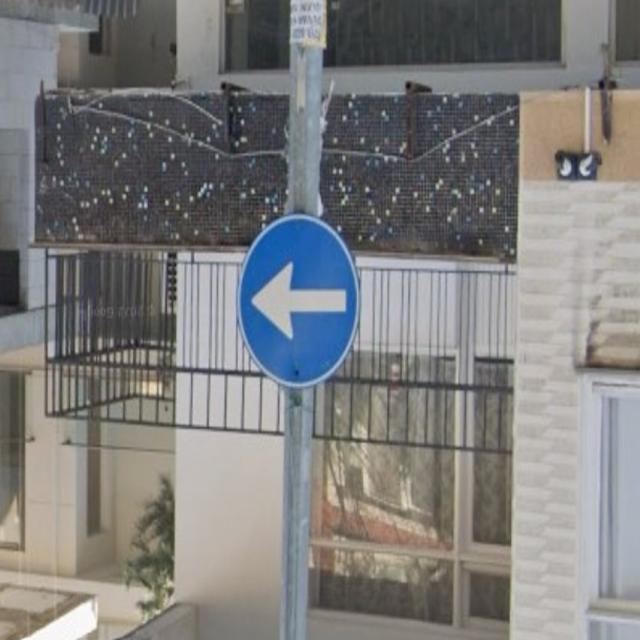Turn Left: (238, 212, 364, 385)
